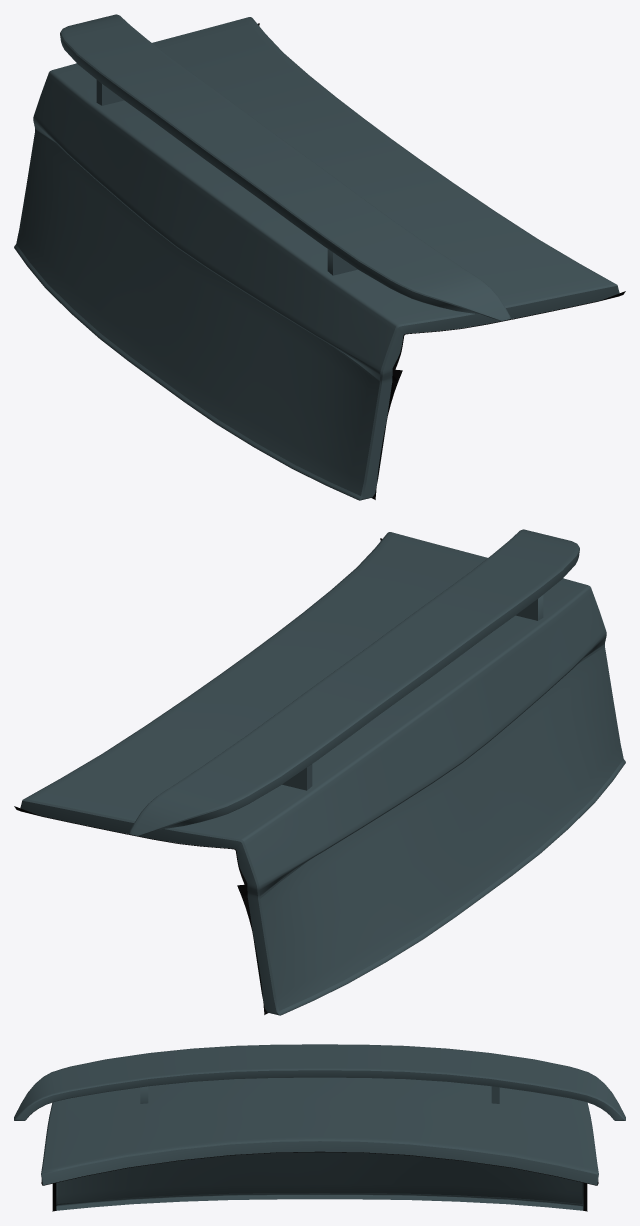
3 renders of one model, top to bottom at view 1: azimuth 30°, elevation 25°; view 2: azimuth 150°, elevation 25°; view 3: azimuth 270°, elevation 25°, orthographic. The views are drawn at different scales.
Parts seen in each view (by area): view 1: P222_15_461B_C_1_DaS_P222_15_461B_C, P222_15_461B_C_1_DaS_P222_15_461B_C_E, P222_15_461B_C_P222_15_461B_C_4_D; view 2: P222_15_461B_C_1_DaS_P222_15_461B_C, P222_15_461B_C_1_DaS_P222_15_461B_C_E, P222_15_461B_C_P222_15_461B_C_4_D; view 3: P222_15_461B_C_1_DaS_P222_15_461B_C, P222_15_461B_C_1_DaS_P222_15_461B_C_E, P222_15_461B_C_P222_15_461B_C_4_D.
Boxes of the visible parts, left/top/right/bottom form: P222_15_461B_C_1_DaS_P222_15_461B_C: left=16, top=14, right=619, bottom=500; P222_15_461B_C_1_DaS_P222_15_461B_C_E: left=14, top=15, right=617, bottom=500; P222_15_461B_C_P222_15_461B_C_4_D: left=258, top=23, right=625, bottom=499; P222_15_461B_C_1_DaS_P222_15_461B_C: left=20, top=529, right=623, bottom=1015; P222_15_461B_C_1_DaS_P222_15_461B_C_E: left=22, top=530, right=625, bottom=1015; P222_15_461B_C_P222_15_461B_C_4_D: left=14, top=538, right=381, bottom=1014; P222_15_461B_C_1_DaS_P222_15_461B_C: left=14, top=1044, right=625, bottom=1210; P222_15_461B_C_1_DaS_P222_15_461B_C_E: left=14, top=1069, right=625, bottom=1206; P222_15_461B_C_P222_15_461B_C_4_D: left=41, top=1151, right=598, bottom=1211.
Bounding box in the file's own units: 58.8 × 43.51 × 143.
